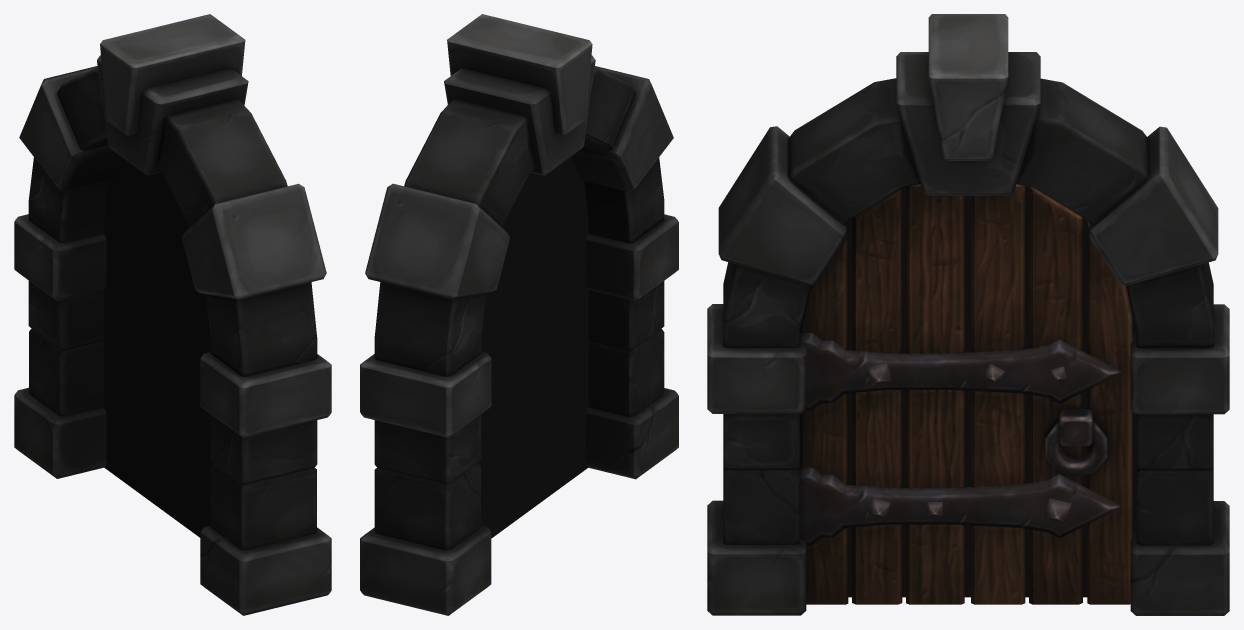
File: door.fbx
3 views of the same model, side by side, from view 1: azimuth 30°, elevation 25°; view 2: azimuth 150°, elevation 25°; view 3: azimuth 270°, elevation 25° (orthographic). The views are drawn at different scales.
Visible parts, largest first — view 1: arch, back; view 2: arch, back; view 3: arch, wood, metals, back, handle, bolts.
Part boxes in pixels (left/top/right/bottom): arch: left=14, top=14, right=331, bottom=615; back: left=103, top=157, right=212, bottom=537; arch: left=360, top=14, right=678, bottom=615; back: left=478, top=157, right=588, bottom=538; arch: left=707, top=14, right=1229, bottom=615; wood: left=800, top=184, right=1132, bottom=604; metals: left=800, top=333, right=1123, bottom=544; back: left=848, top=186, right=1136, bottom=597; handle: left=1045, top=409, right=1107, bottom=477; bolts: left=867, top=363, right=1071, bottom=523.
Size of the model in its own units: 106 by 431 by 372.
